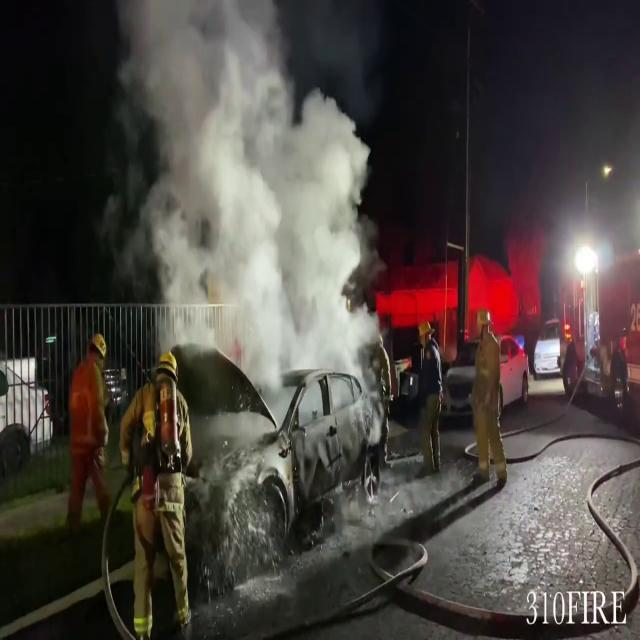Smoke: (111, 0, 382, 393)
